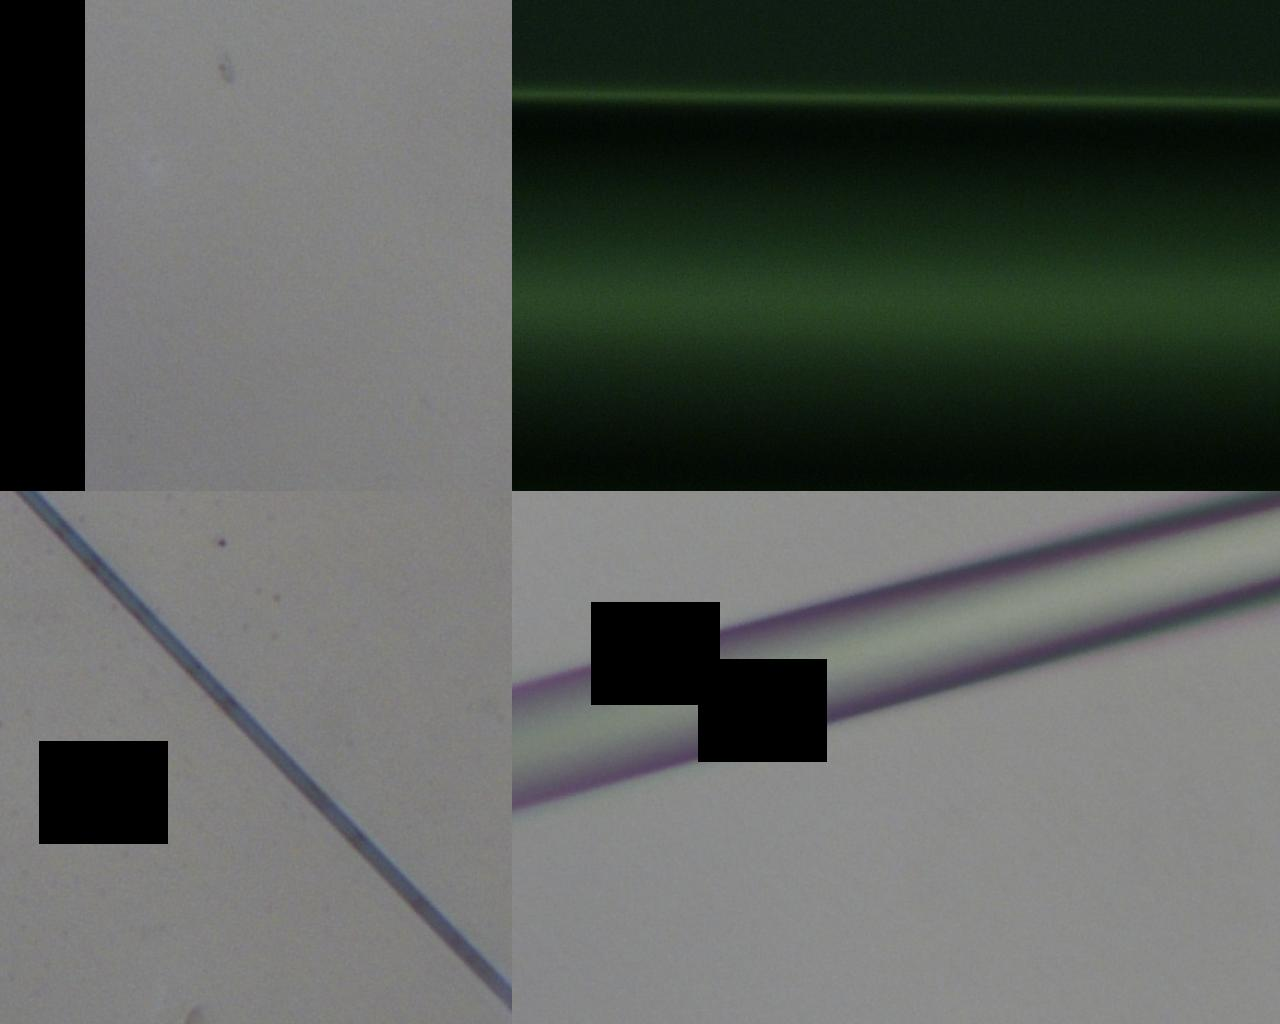fiber: (703, 0, 1224, 583), (3, 583, 316, 1024)
